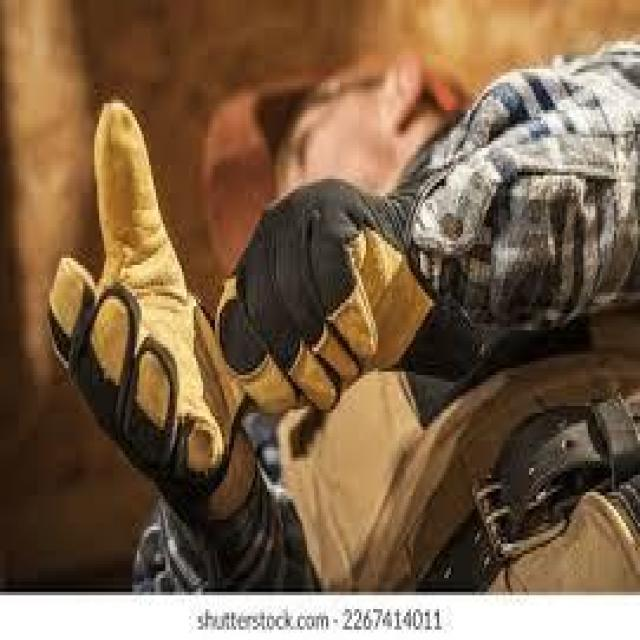Gloves: (42, 92, 254, 532), (217, 169, 487, 430)
